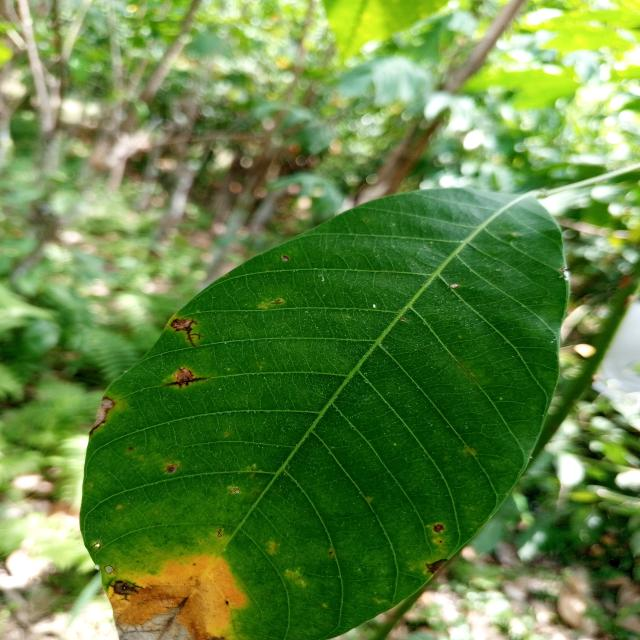Colletotrichum: (426, 560, 448, 574), (104, 565, 114, 574), (449, 284, 459, 289), (218, 534, 222, 538), (218, 529, 222, 533)
Corynespora: (171, 318, 202, 347), (108, 578, 144, 602), (164, 377, 207, 388)
Leaf-Blight: (116, 607, 190, 640), (92, 396, 115, 428)
